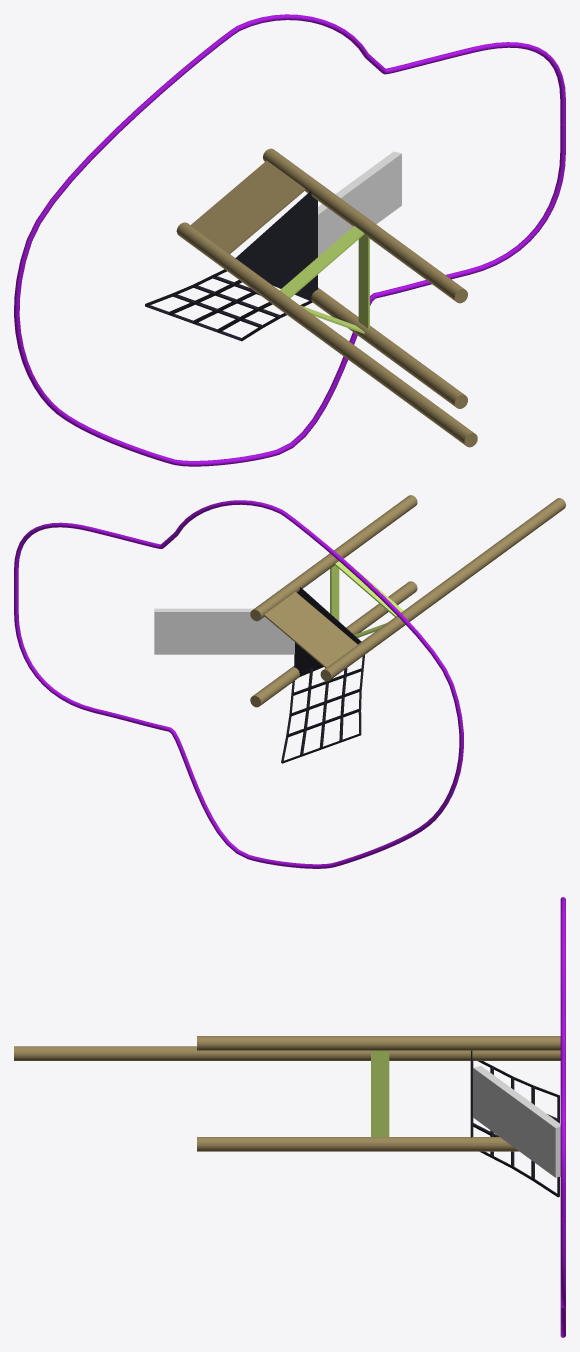
File: leber-lgk-21.glb
The picture shows the model from 3 angles, top to bottom: view 1: azimuth 30°, elevation 25°; view 2: azimuth 150°, elevation 25°; view 3: azimuth 270°, elevation 25°; orthographic projection. The views are drawn at different scales.
Visible parts, largest first — view 1: _outline.007, Cylinder.030, Cube.047, Cube.043, Cube.048, Cylinder.028, Cylinder.029, Plane, Cube.044, Cube.046; view 2: _outline.007, Cube.048, Cylinder.030, Cube.047, Cylinder.028, Plane, Cylinder.029, Cube.043, Cube.044, Cube.046; view 3: Cylinder.030, Cylinder.028, Cube.048, Cylinder.029, _outline.007, Cube.046, Plane.
Part boxes in pixels (x1=…): _outline.007: x1=14, y1=14, x2=565, y2=466; Cylinder.030: x1=176, y1=222, x2=477, y2=447; Cube.047: x1=190, y1=160, x2=305, y2=253; Cube.043: x1=235, y1=191, x2=317, y2=301; Cube.048: x1=318, y1=151, x2=401, y2=256; Cylinder.028: x1=263, y1=148, x2=467, y2=303; Cylinder.029: x1=311, y1=287, x2=467, y2=408; Plane: x1=145, y1=269, x2=312, y2=341; Cube.044: x1=280, y1=226, x2=364, y2=298; Cube.046: x1=358, y1=234, x2=369, y2=328; _outline.007: x1=14, y1=500, x2=463, y2=868; Cube.048: x1=154, y1=608, x2=294, y2=654; Cylinder.030: x1=320, y1=498, x2=565, y2=681; Cube.047: x1=264, y1=592, x2=357, y2=667; Cylinder.028: x1=250, y1=495, x2=417, y2=621; Plane: x1=281, y1=655, x2=364, y2=763; Cylinder.029: x1=250, y1=581, x2=417, y2=707; Cube.043: x1=294, y1=587, x2=361, y2=676; Cube.044: x1=335, y1=558, x2=403, y2=616; Cube.046: x1=330, y1=565, x2=339, y2=621; Cylinder.030: x1=14, y1=1046, x2=560, y2=1060; Cylinder.028: x1=197, y1=1036, x2=560, y2=1050; Cube.048: x1=473, y1=1066, x2=560, y2=1177; Cylinder.029: x1=197, y1=1137, x2=519, y2=1151; _outline.007: x1=560, y1=897, x2=565, y2=1337; Cube.046: x1=371, y1=1050, x2=389, y2=1137; Plane: x1=470, y1=1060, x2=559, y2=1197.
Size of the model in its own units: 6.64 by 5.08 by 6.03.
